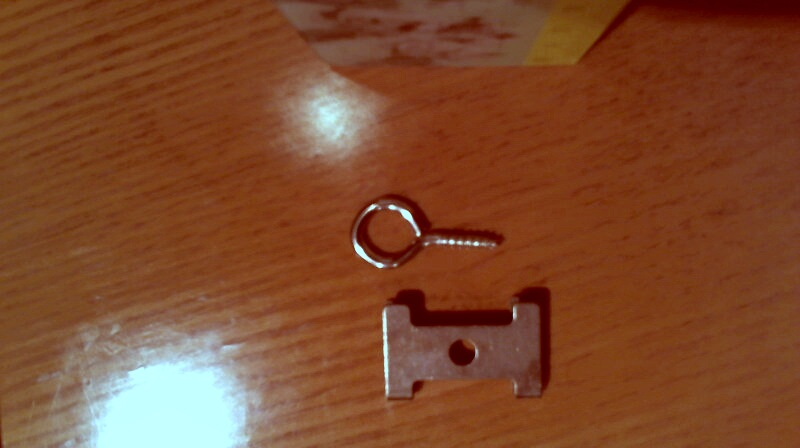O001: (345, 196, 509, 272)
O002: (377, 288, 550, 406)
